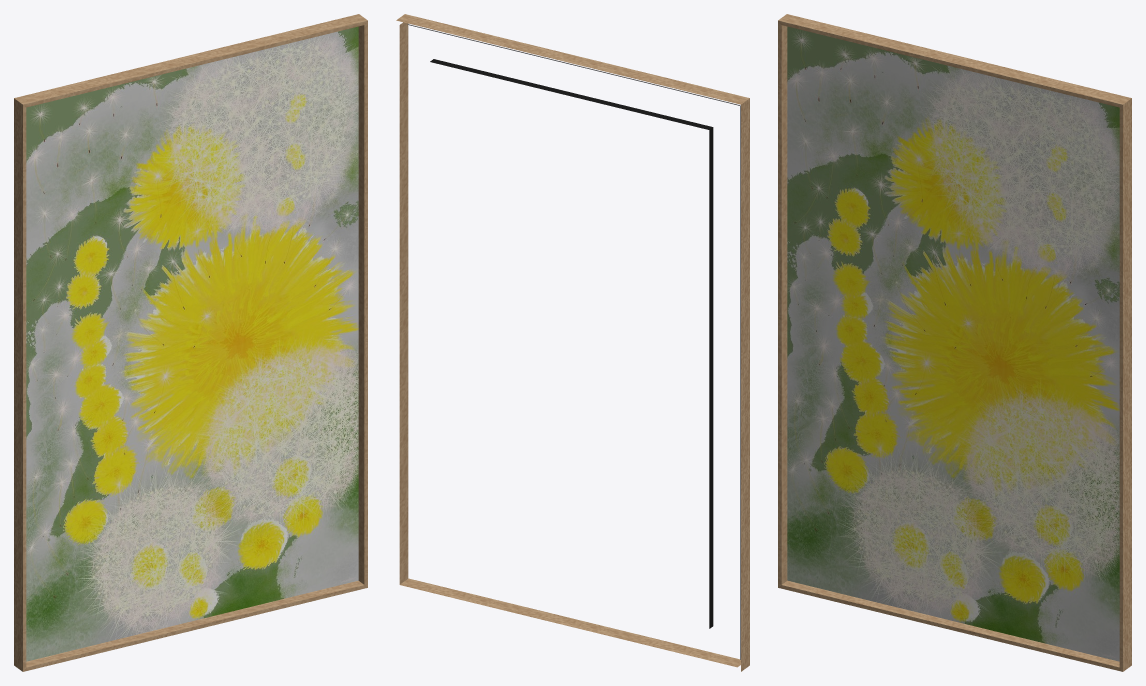
Rendered from os028_grand_caisse-chene.glb.
3 views of the same model, side by side, from view 1: azimuth 30°, elevation 25°; view 2: azimuth 150°, elevation 25°; view 3: azimuth 330°, elevation 25° (orthographic).
Parts seen in each view (by area): view 1: os028_grand_caisse-chene; view 2: os028_grand_caisse-chene; view 3: os028_grand_caisse-chene.
Part boxes in pixels (bbox=[...]): os028_grand_caisse-chene: bbox=[14, 14, 367, 671]; os028_grand_caisse-chene: bbox=[396, 14, 749, 671]; os028_grand_caisse-chene: bbox=[778, 14, 1131, 671].
Size of the model in its own units: 0.7817 by 1.23 by 0.035.
4 materials, 2 textured.
